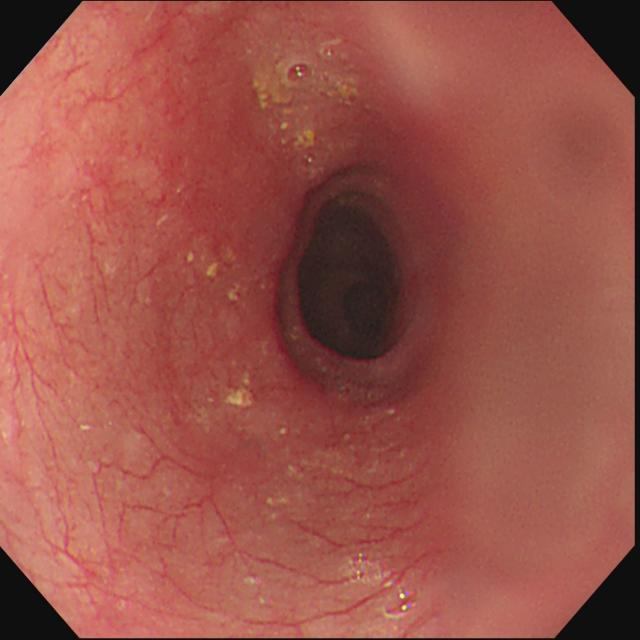E: (290, 183, 422, 369)
J: (255, 81, 318, 151), (187, 248, 244, 303), (224, 375, 256, 410)
T: (345, 551, 419, 620), (285, 58, 335, 89)
